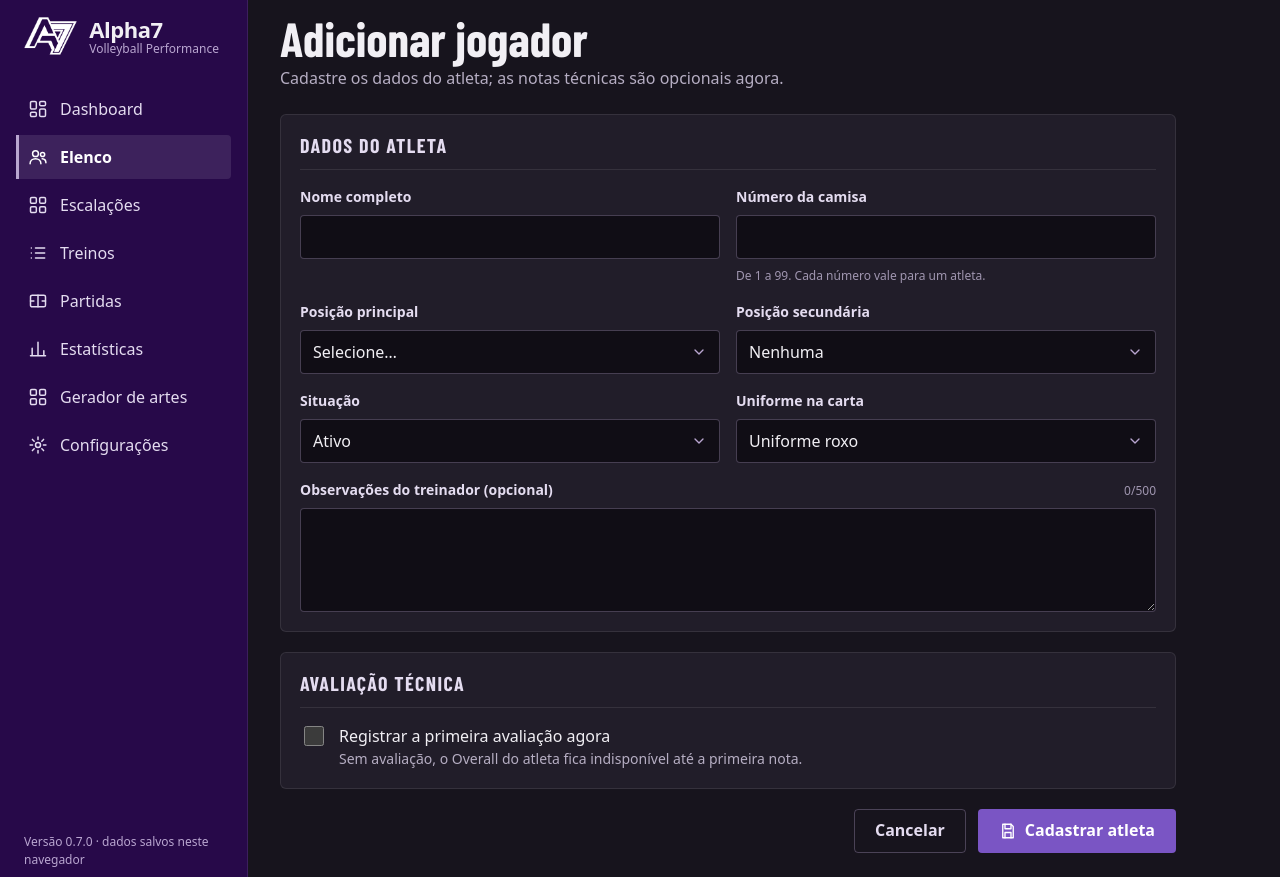
it: Cadastro de jogador › formulário vazio mostra os erros de cada campo, move o foco e não cadastra ninguém
(page scrolled)
Step 1. Click the button "Cadastrar atleta" → (1077, 831), box [978,809,1176,853]
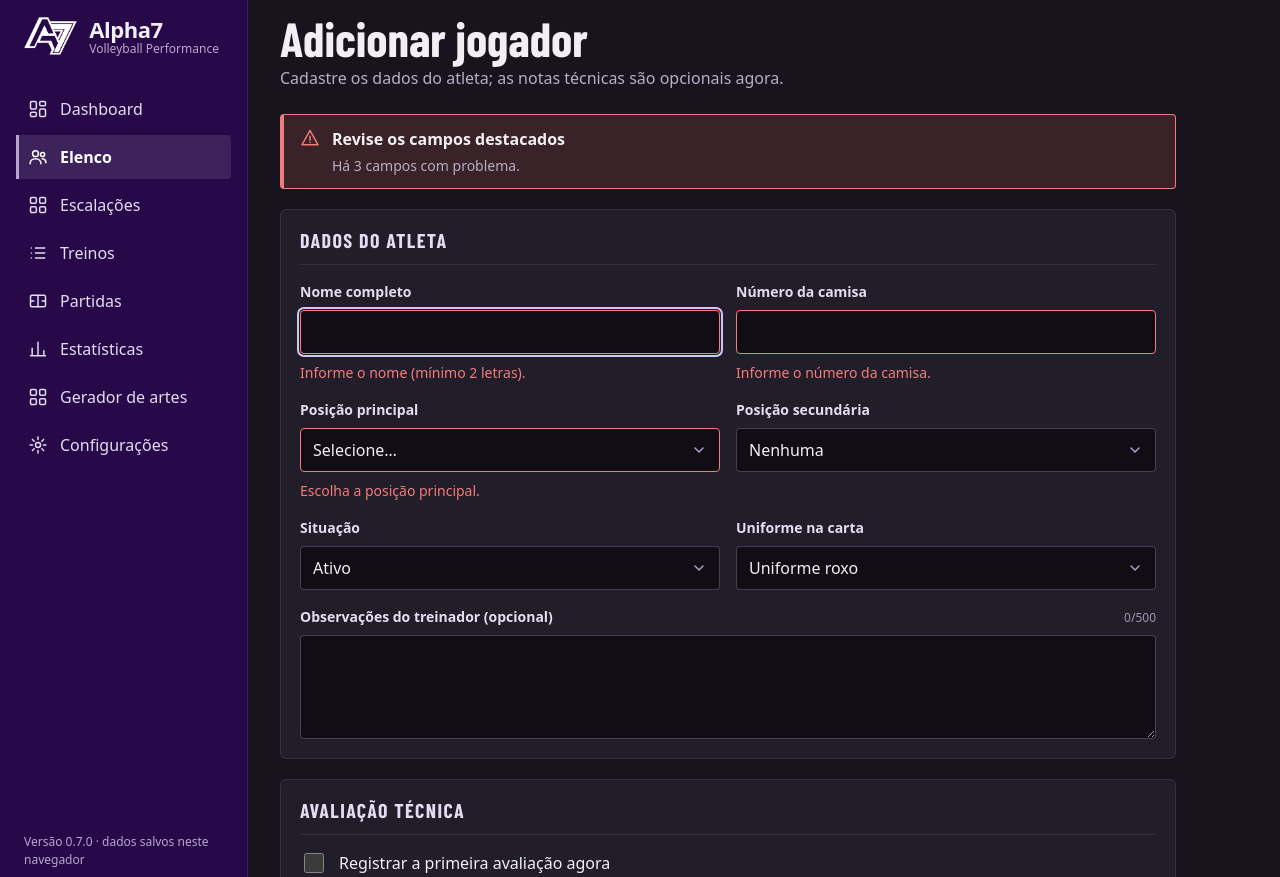
Check: the text "Revise os campos destacados" is shown, box [332,128,565,150]
Check: the text "Informe o nome (mínimo 2 letras)." is shown, box [300,363,526,382]
Check: the text "Informe o número da camisa." is shown, box [736,363,931,382]
